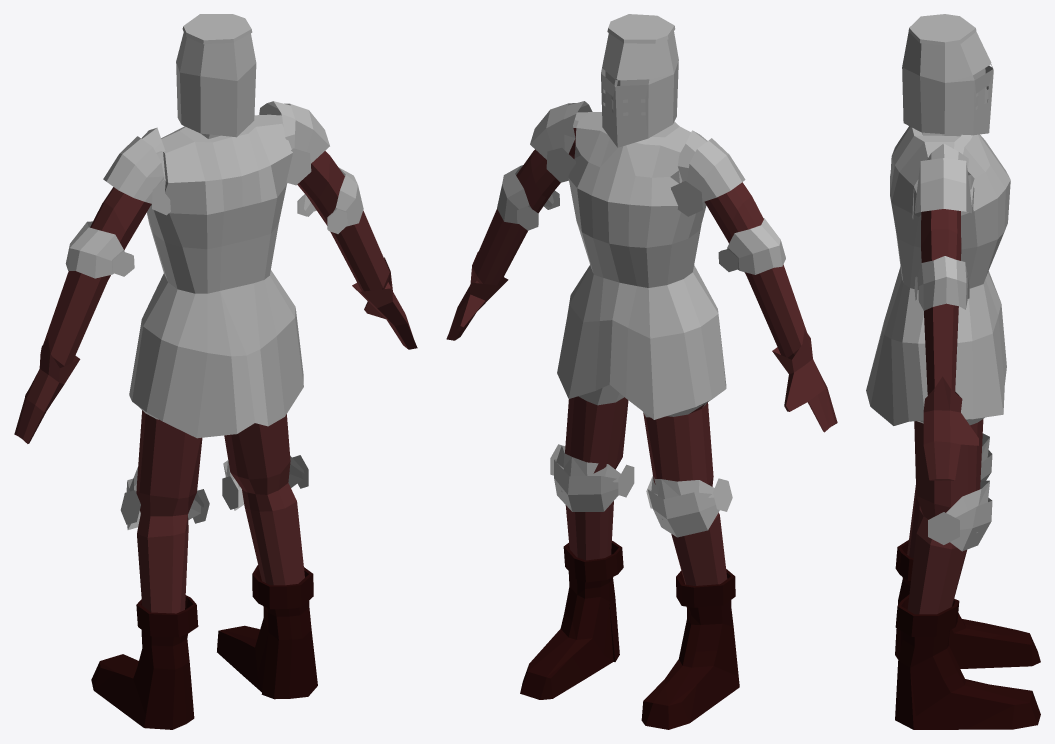
Rendered from Knight.fbx.
The picture shows the model from 3 angles, left to right: view 1: azimuth 30°, elevation 25°; view 2: azimuth 150°, elevation 25°; view 3: azimuth 270°, elevation 25°; orthographic projection. The views are drawn at different scales.
Parts seen in each view (by area): view 1: KnightBody; view 2: KnightBody; view 3: KnightBody.
Part boxes in pixels (x1,y1,x2,y2): KnightBody: [14, 14, 417, 729]; KnightBody: [446, 14, 837, 729]; KnightBody: [866, 14, 1040, 729].
Bounding box in the file's own units: 363 × 593 × 142.
